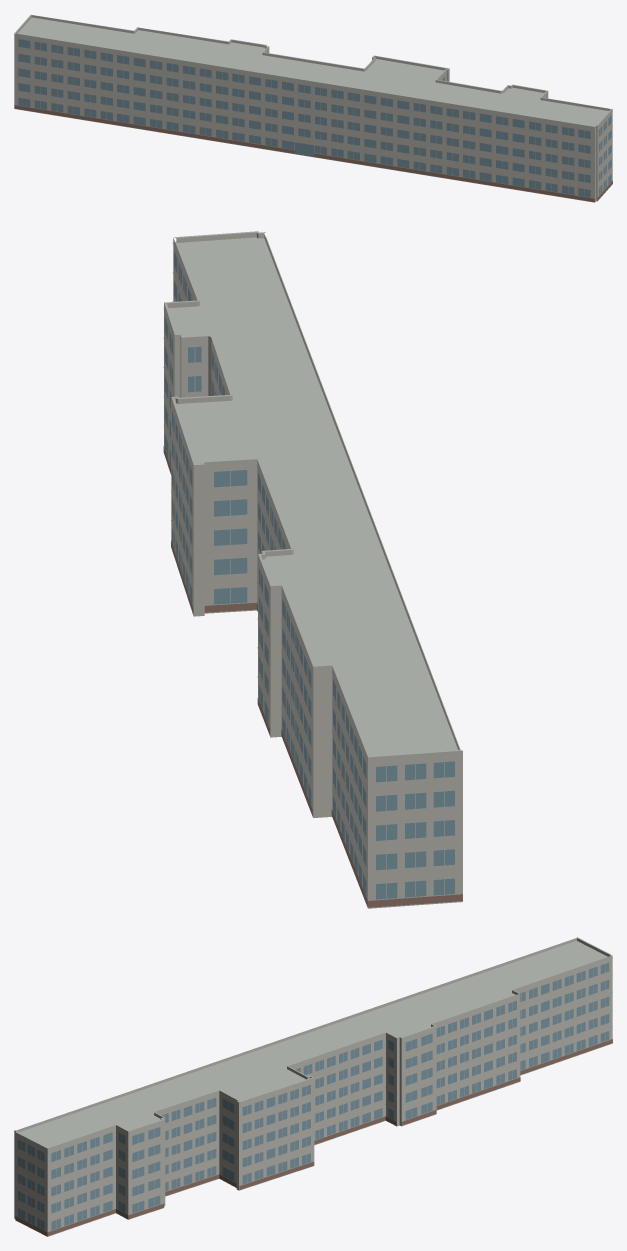
The model's file is public-6e5c1735-9c26-48b0-9f2c-a08f2d433271.glb.
3 views of the same model, one above another, from view 1: azimuth 30°, elevation 25°; view 2: azimuth 150°, elevation 25°; view 3: azimuth 270°, elevation 25° (orthographic). The views are drawn at different scales.
Parts seen in each view (by area): view 1: public-6e5c1735-9c26-48b0-9f2c-a08f2d433271; view 2: public-6e5c1735-9c26-48b0-9f2c-a08f2d433271; view 3: public-6e5c1735-9c26-48b0-9f2c-a08f2d433271.
Boxes of the visible parts, x1,y1,x2,y2 form: public-6e5c1735-9c26-48b0-9f2c-a08f2d433271: [14, 14, 612, 202]; public-6e5c1735-9c26-48b0-9f2c-a08f2d433271: [163, 231, 462, 908]; public-6e5c1735-9c26-48b0-9f2c-a08f2d433271: [14, 937, 612, 1236].
Bounding box in the file's own units: 103 × 20 × 123.
